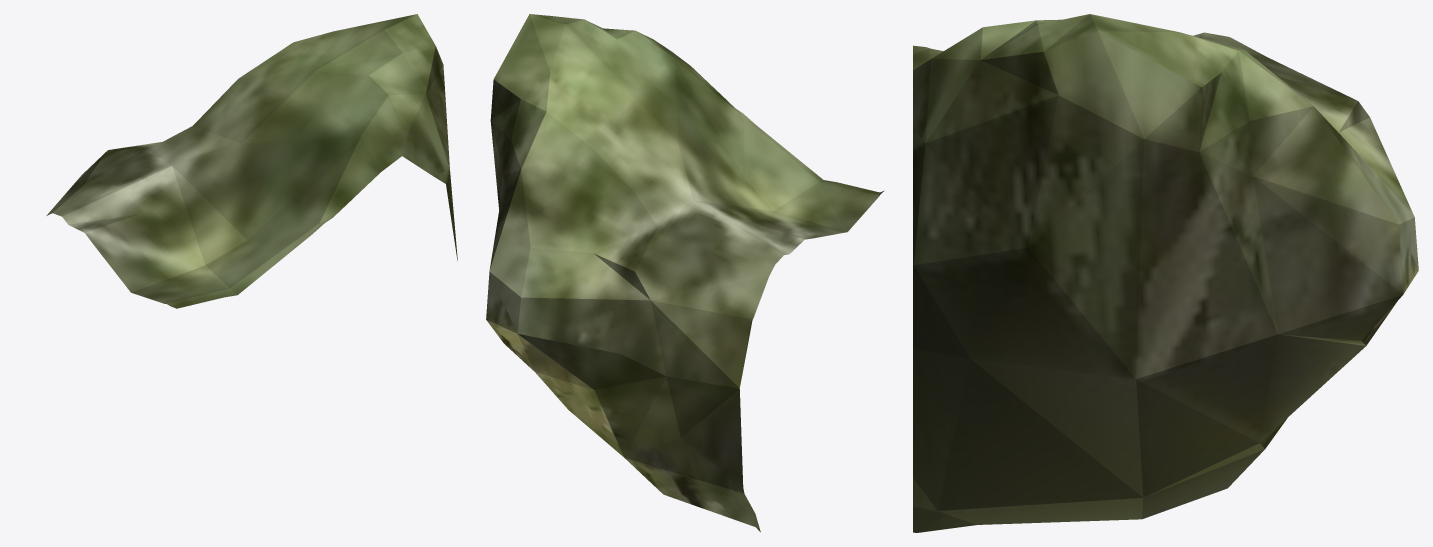
The picture shows the model from 3 angles, left to right: view 1: azimuth 30°, elevation 25°; view 2: azimuth 150°, elevation 25°; view 3: azimuth 270°, elevation 25°; orthographic projection. The views are drawn at different scales.
Bounding box in the file's own units: 0.7495 × 0.932 × 0.7323.
1 material, 1 textured.
